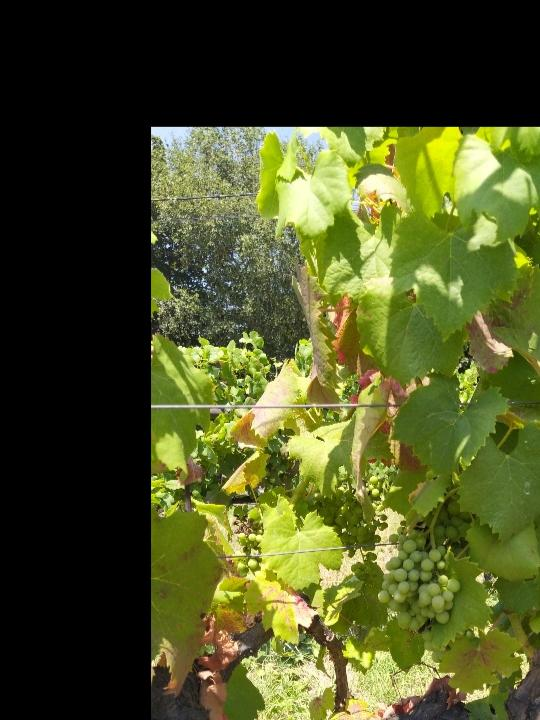grape: (376, 488, 475, 636), (307, 486, 389, 588)
